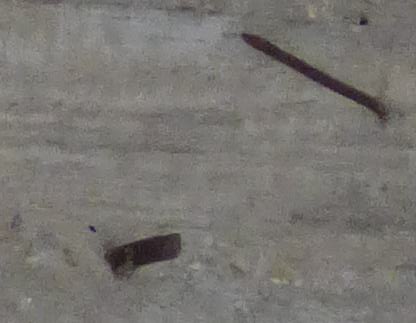Exposed reinforcement: (240, 32, 385, 120), (104, 232, 183, 275)
